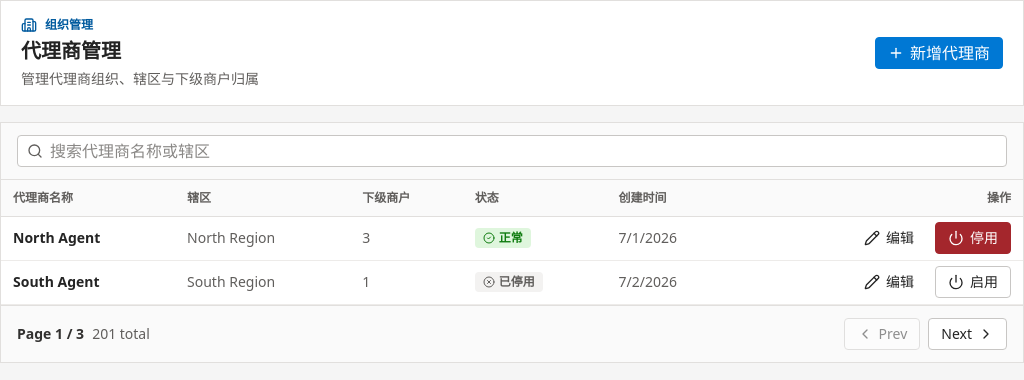
Scenario: AgentManagement Fluent table › loads paginated pages so records beyond the first page remain reachable
The image size is (1024, 380).
Expected: the text "Page 1 / 3" is shown, x1=17 y1=324 x2=150 y2=344
Step 1. Click the button with aria-label "Next page" → click(968, 334), box x1=928 y1=318 x2=1007 y2=350
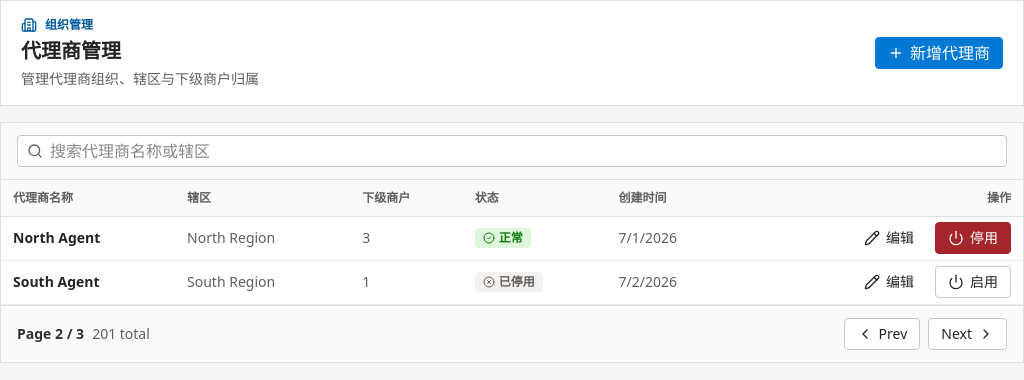
Expected: the text "Page 2 / 3" is shown, x1=17 y1=324 x2=150 y2=344
